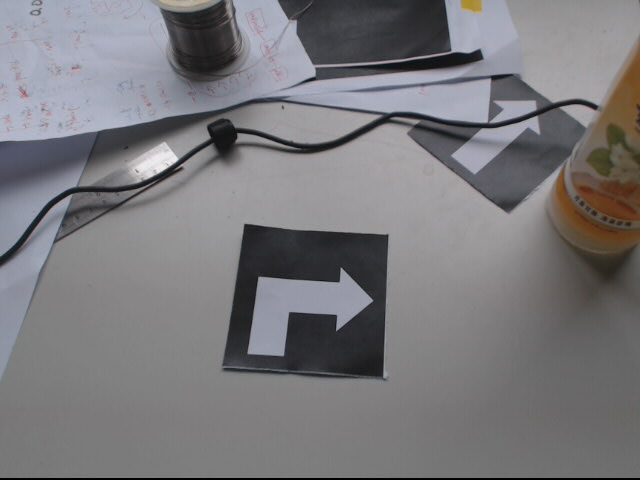right: (220, 222, 388, 379)
